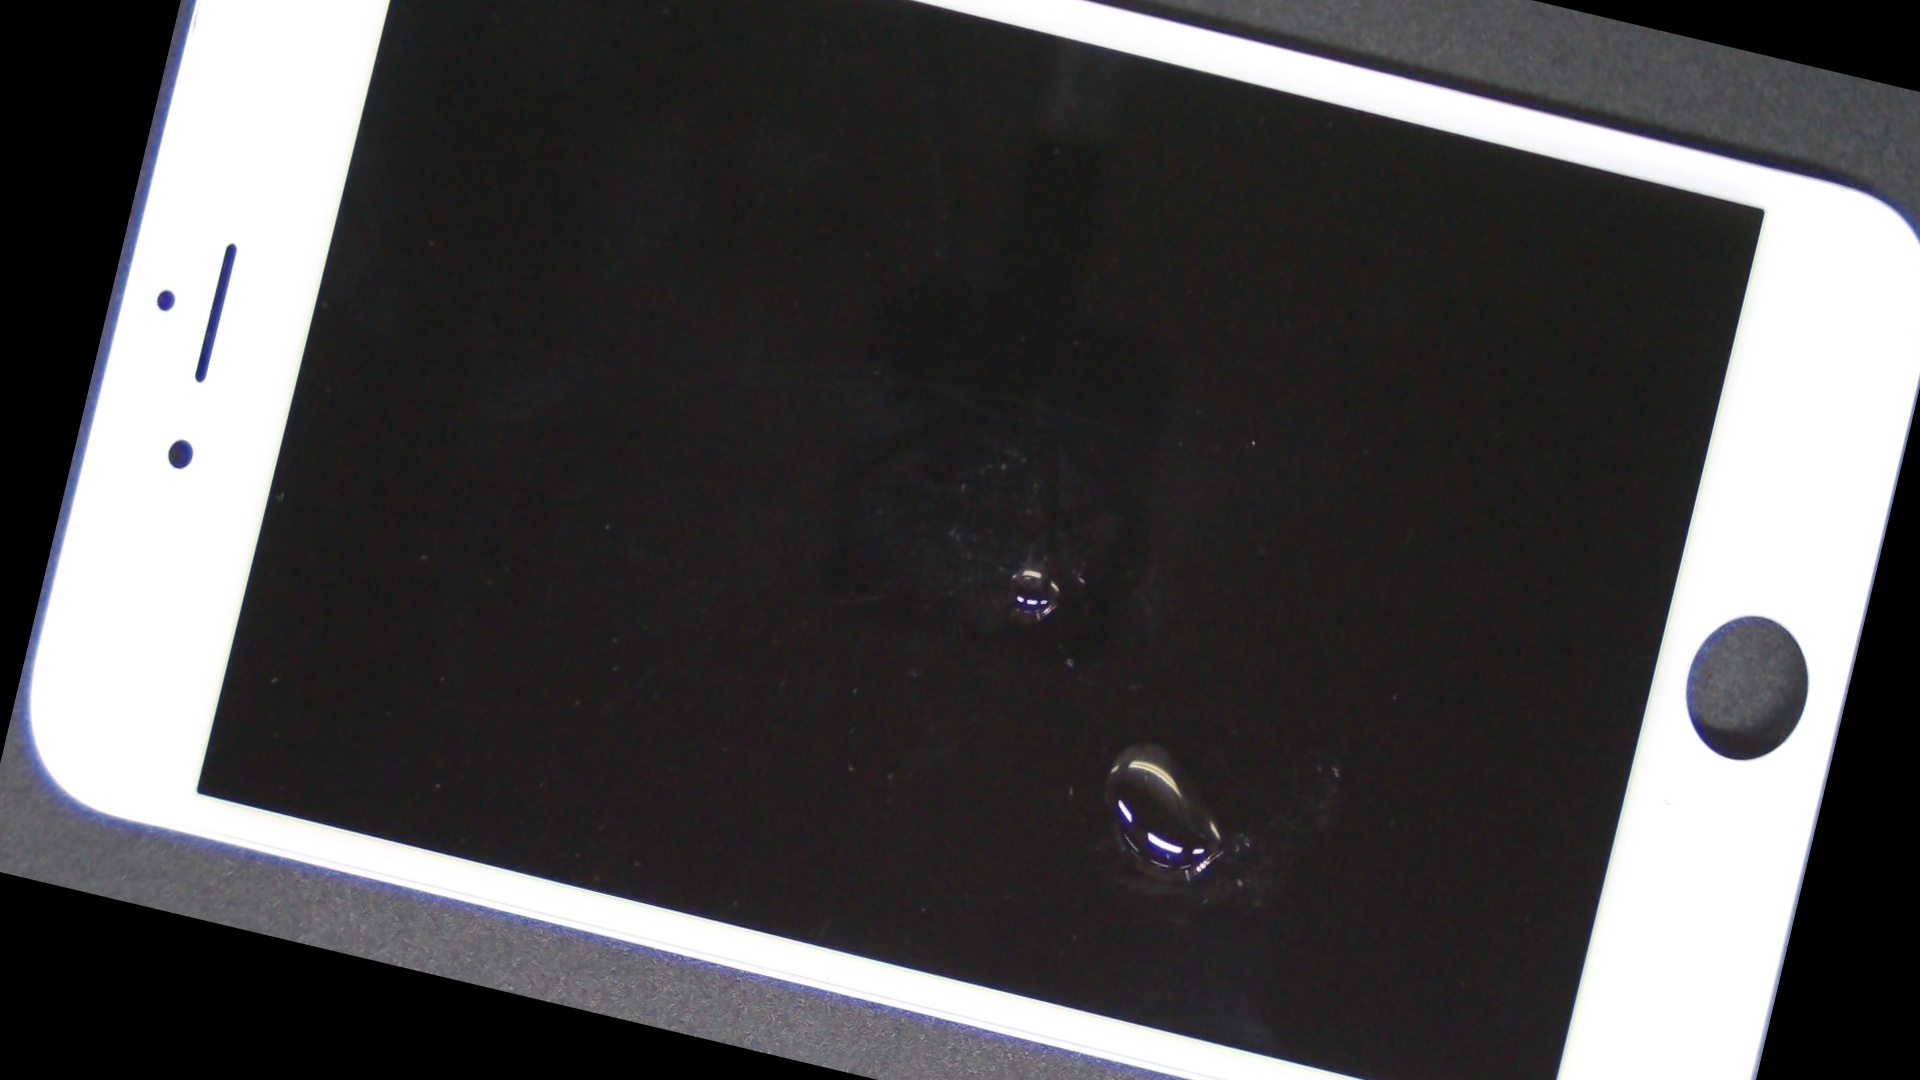oil: (522, 219, 1795, 1080), (493, 132, 1585, 1004)
